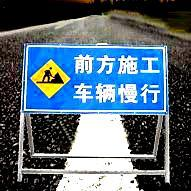sign: (22, 41, 170, 116)
